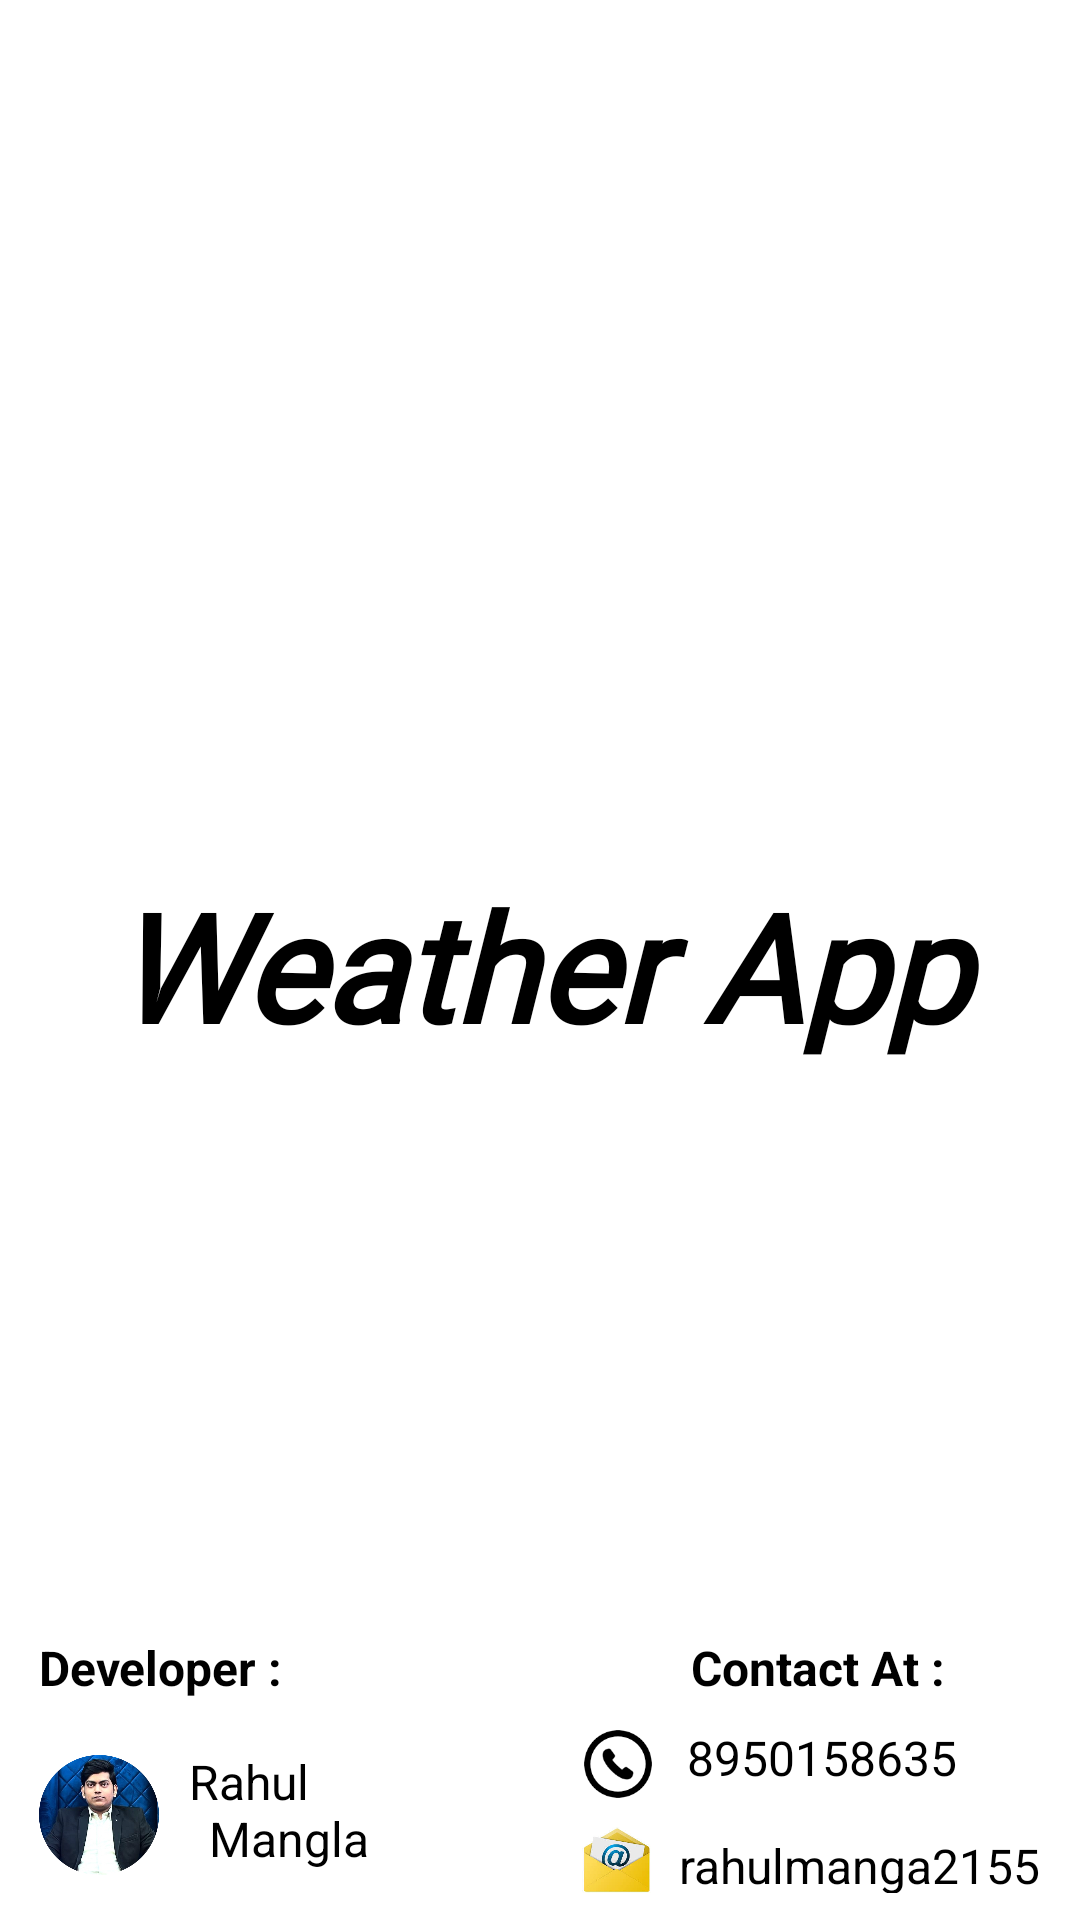

Point at icon controls on the screen. Image size 1080w x 1920h, points as point (x, y).
email: point (617, 1860)
phone: point (618, 1764)
